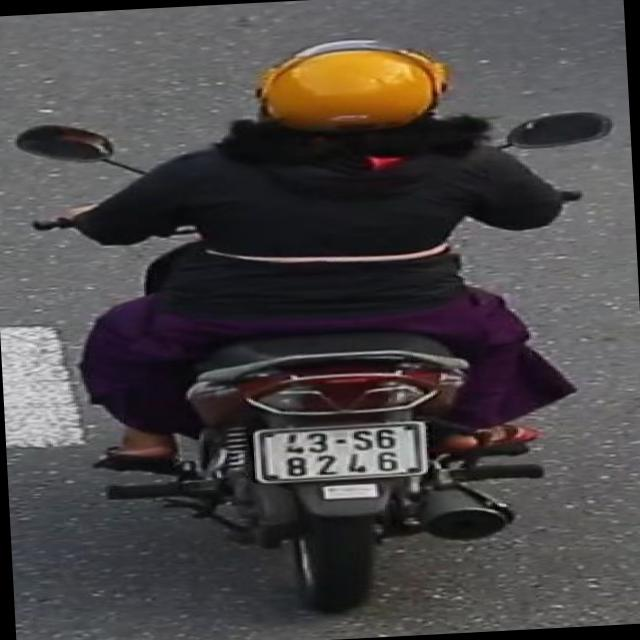LP: (248, 414, 435, 488)
helmet: (234, 39, 476, 177)
